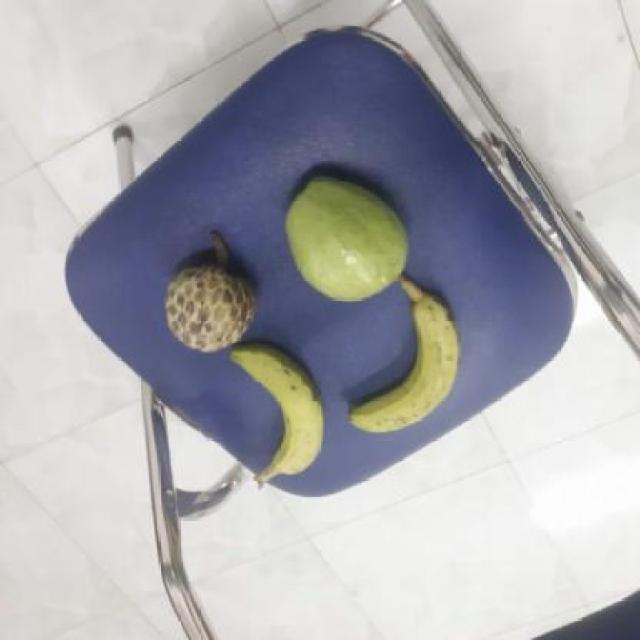banana: (344, 292, 468, 432), (228, 346, 330, 482)
guava: (284, 174, 416, 303)
sugar apple: (164, 257, 261, 352)
